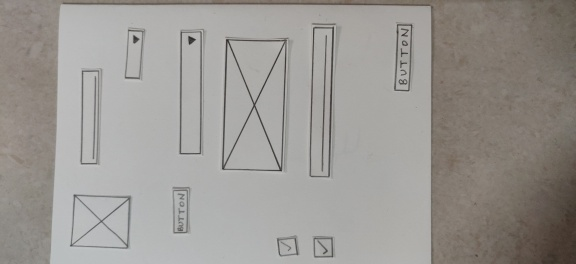button: (389, 20, 418, 96), (167, 184, 194, 237)
checkbox: (273, 232, 302, 260), (310, 233, 336, 261)
dropdown: (174, 24, 208, 160), (121, 24, 147, 84)
img: (219, 34, 291, 175), (67, 190, 136, 254)
text: (306, 20, 339, 180), (76, 65, 105, 168)
